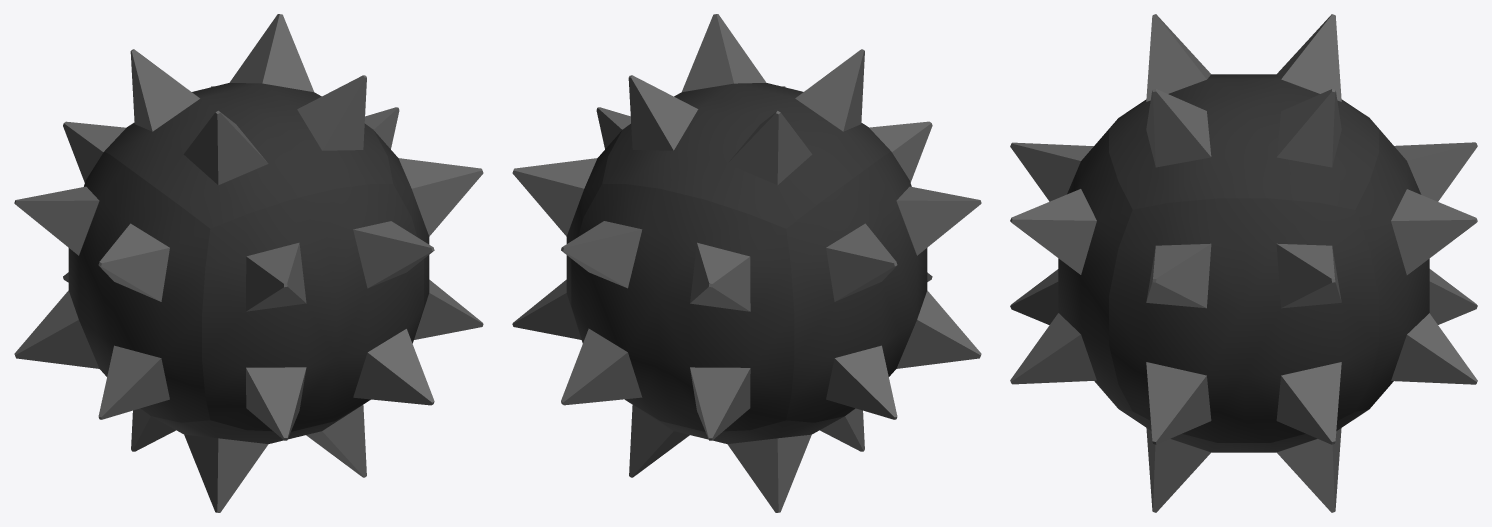
File: BolaDePuas.fbx
3 renders of one model, left to right at view 1: azimuth 30°, elevation 25°; view 2: azimuth 150°, elevation 25°; view 3: azimuth 270°, elevation 25°, orthographic. The views are drawn at different scales.
Parts seen in each view (by area): view 1: Bola de Puas; view 2: Bola de Puas; view 3: Bola de Puas.
Boxes of the visible parts, <box> form: Bola de Puas: <box>14,14,483,512</box>; Bola de Puas: <box>512,14,981,512</box>; Bola de Puas: <box>1010,14,1477,512</box>.
Bounding box in the file's own units: 279 × 279 × 279.
